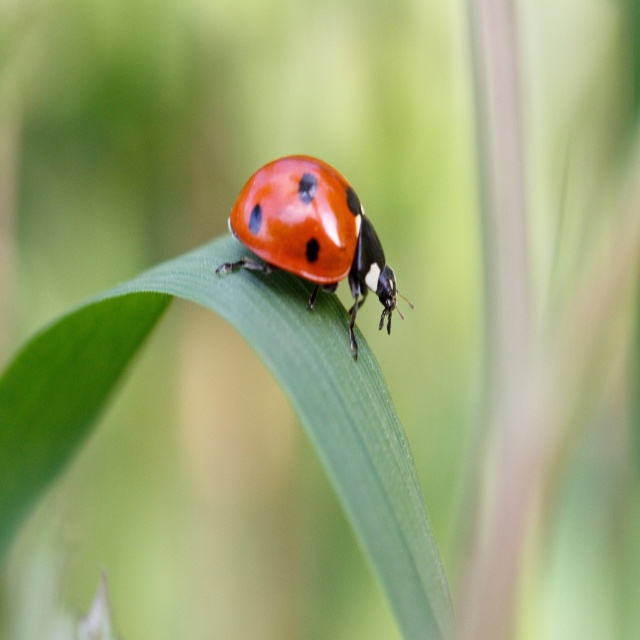Ladybug: (216, 152, 414, 359)
